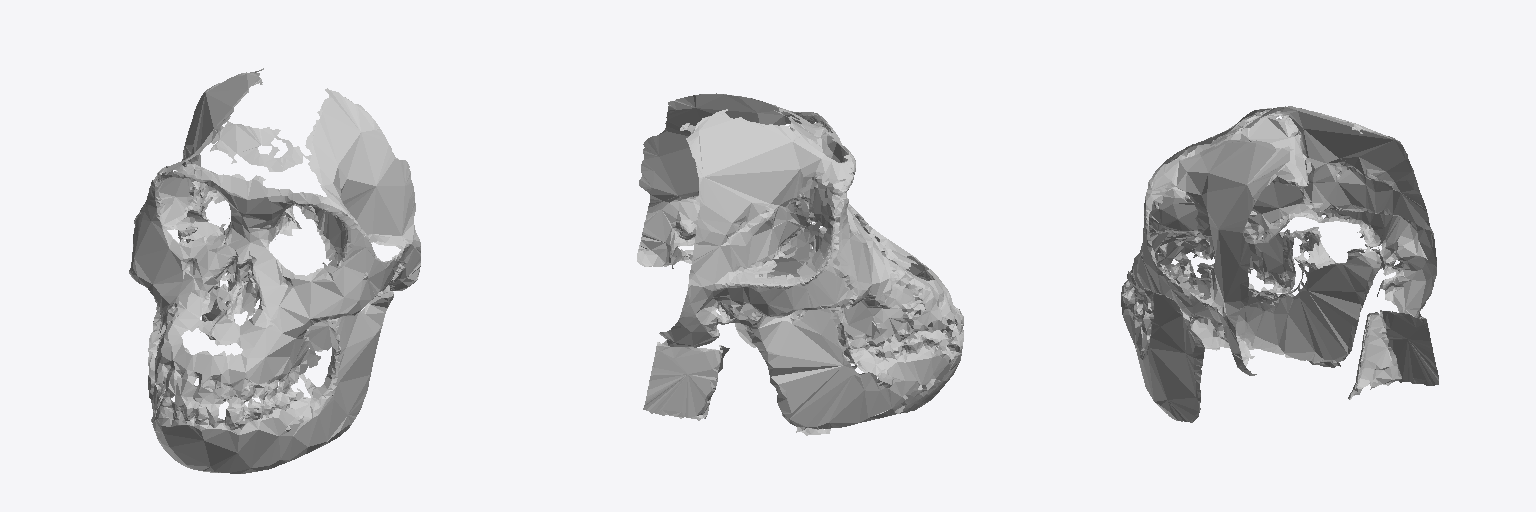
Rendered from schaedel.obj.
3 renders of one model, left to right at view 1: azimuth 30°, elevation 25°; view 2: azimuth 150°, elevation 25°; view 3: azimuth 270°, elevation 25°, orthographic.
Bounding box in the file's own units: 148 × 149 × 140.